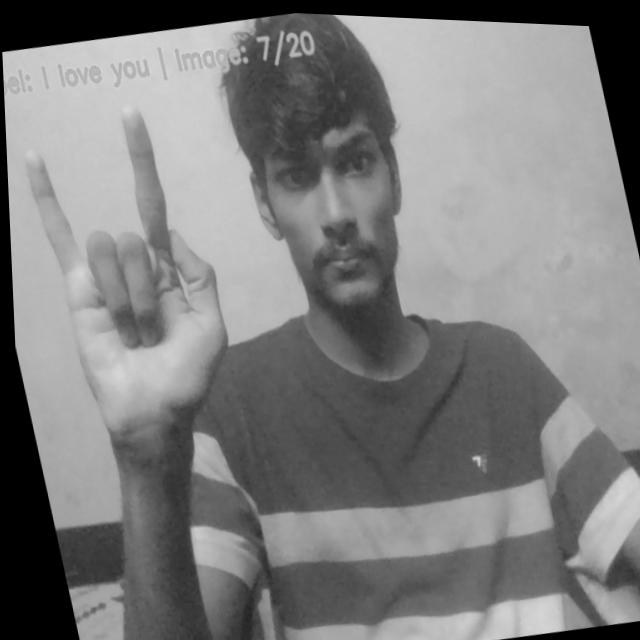I love you: (10, 93, 245, 445)
